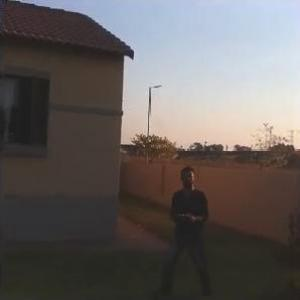follow: (153, 156, 213, 299)
